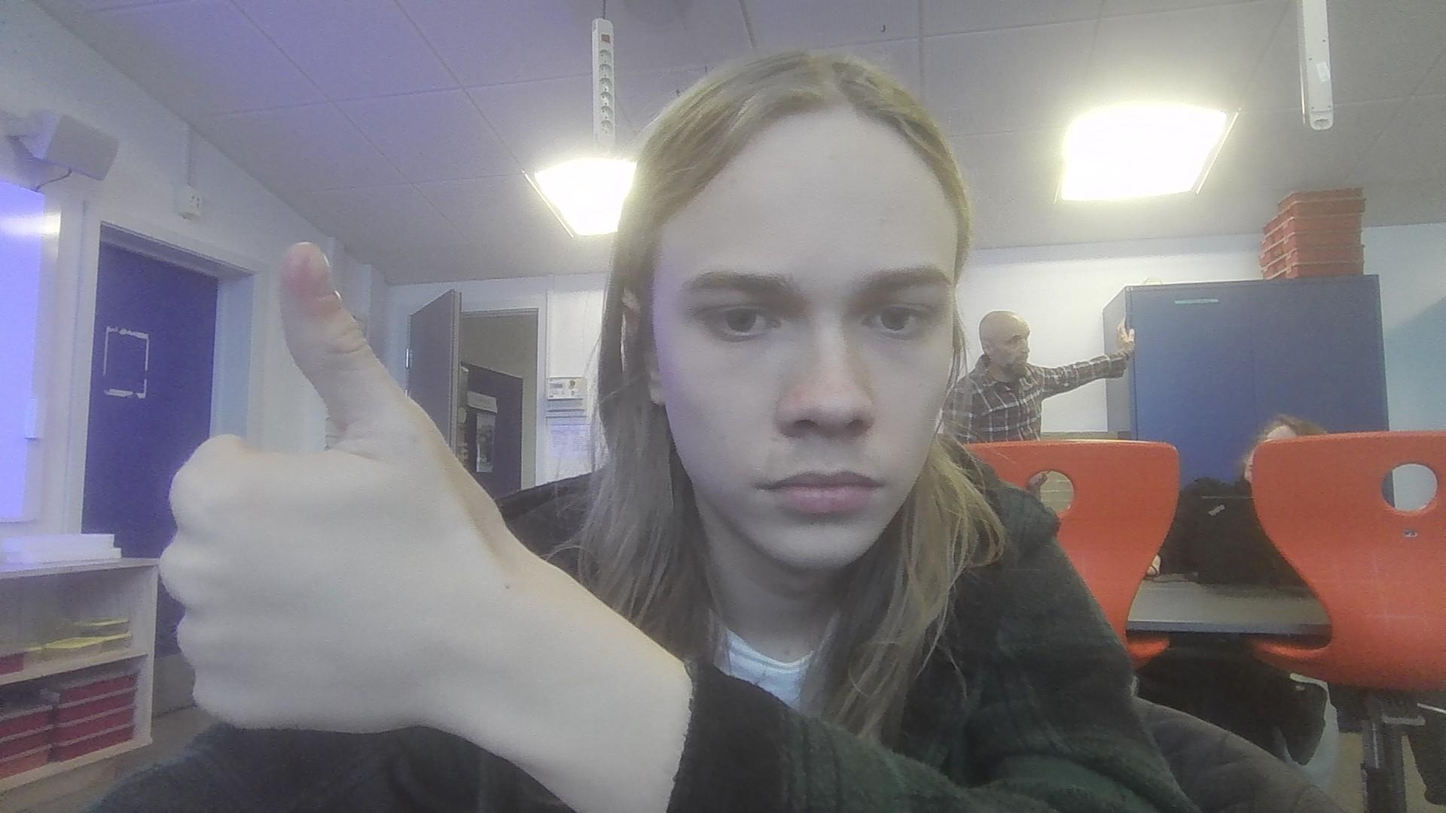thumbs up: (151, 234, 527, 772)
